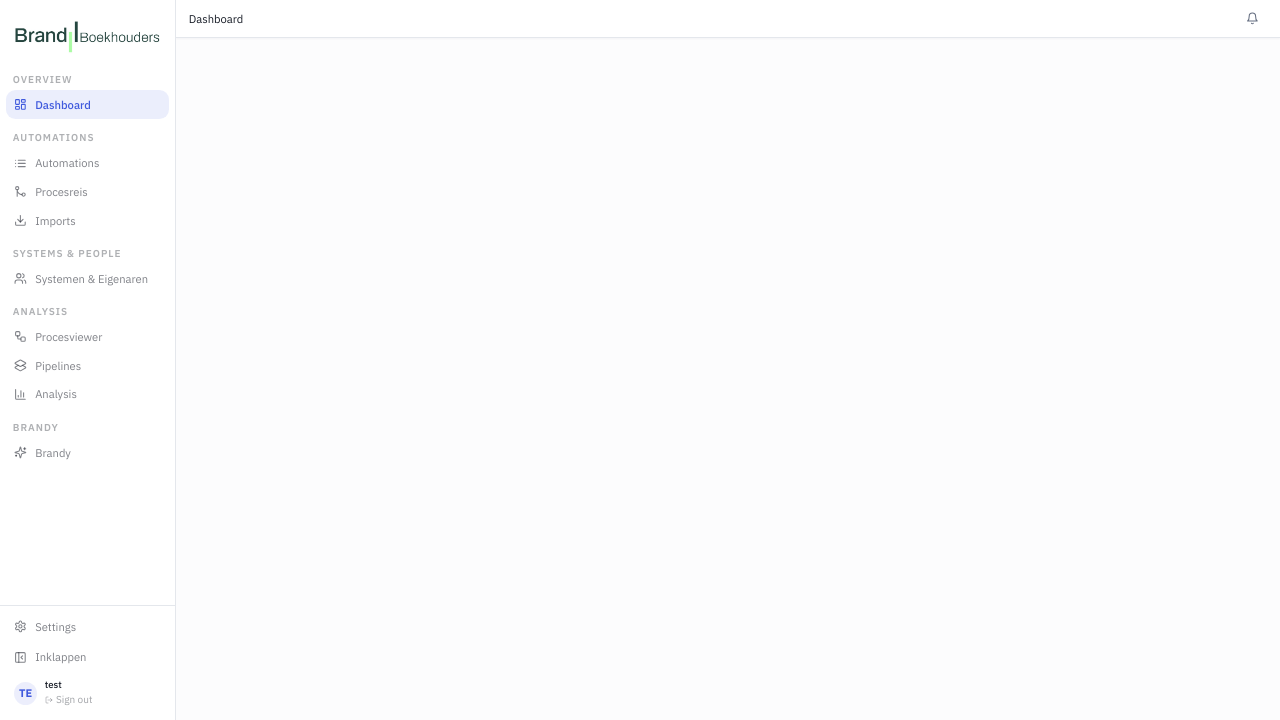
Scenario: process navigation cleanup › shows the sidebar collapse action as a full footer item below settings
Click the button "Inklappen": [88, 657] box top-left (6, 643), bottom-right (169, 672)
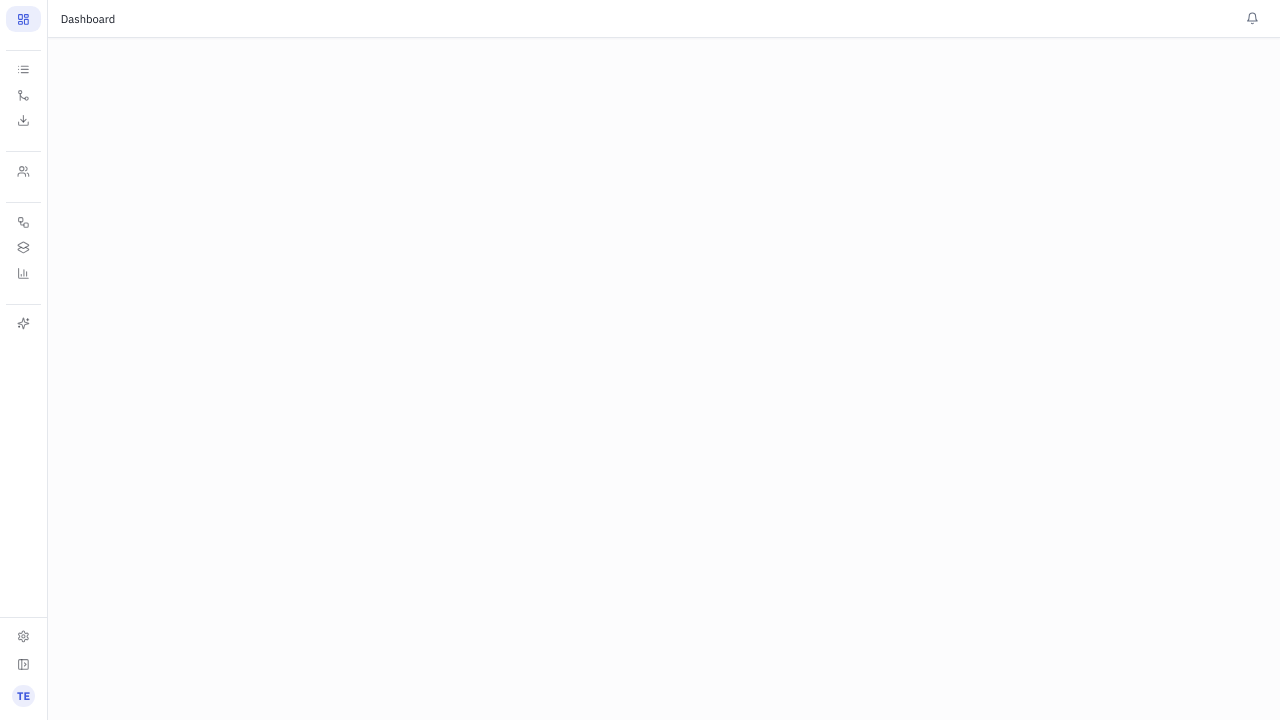
Expected: the text "Inklappen" is gone
Expected: the button named "Uitklappen" is shown, top-left (6, 651), bottom-right (41, 677)
